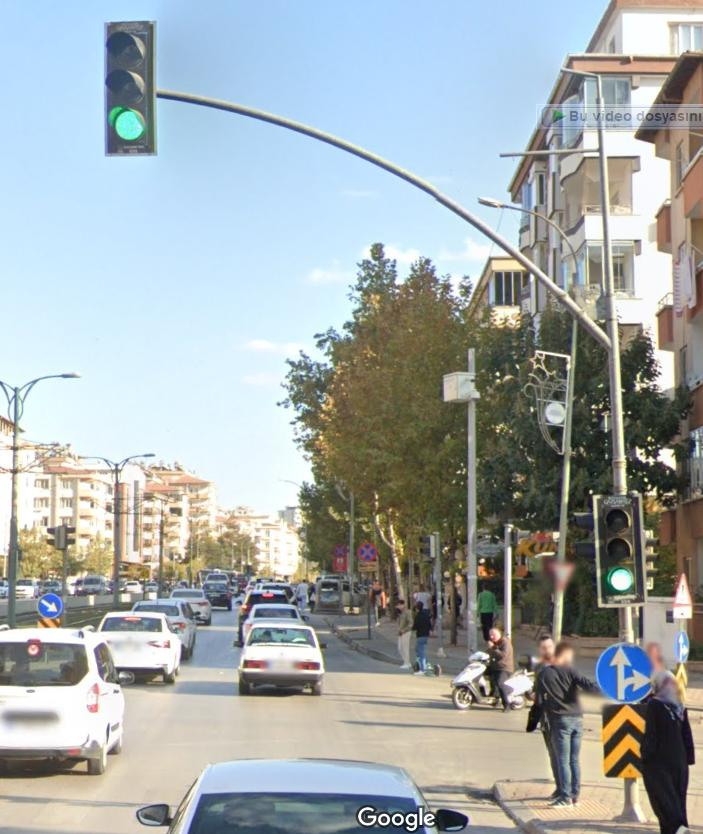greenlight: (589, 491, 643, 609), (106, 23, 153, 157)
